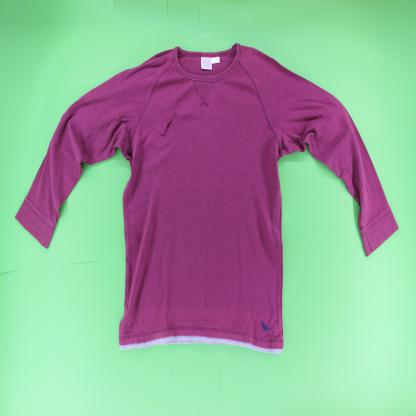hole: (162, 109, 179, 137)
